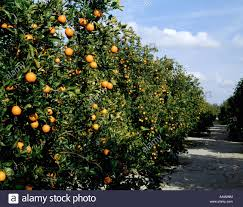orange: (85, 54, 94, 62)
